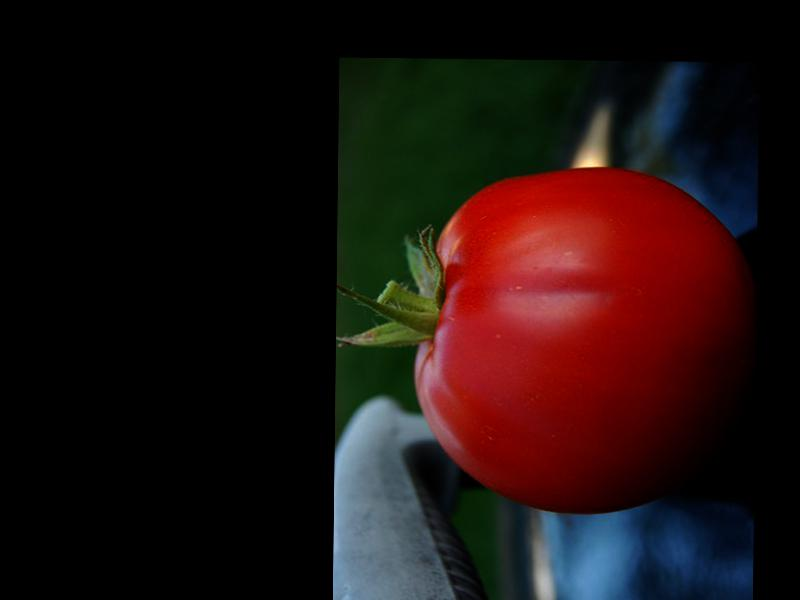Tomato: (412, 164, 758, 516)
